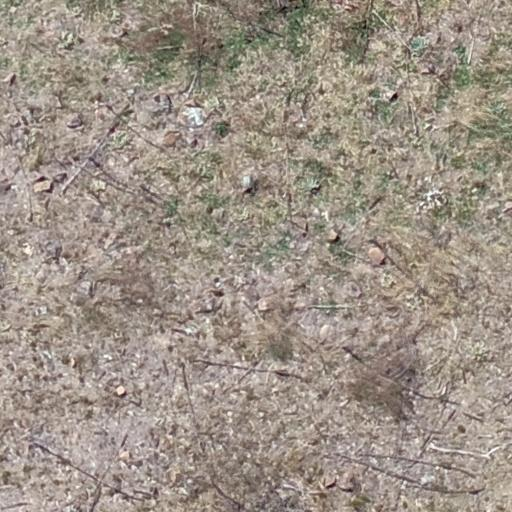stone: (368, 246, 386, 266), (340, 473, 358, 492), (118, 450, 137, 466), (67, 115, 86, 129), (31, 180, 53, 192), (241, 172, 253, 193), (324, 468, 335, 490), (384, 88, 399, 103), (3, 70, 16, 86), (114, 384, 127, 398), (68, 355, 75, 367)
